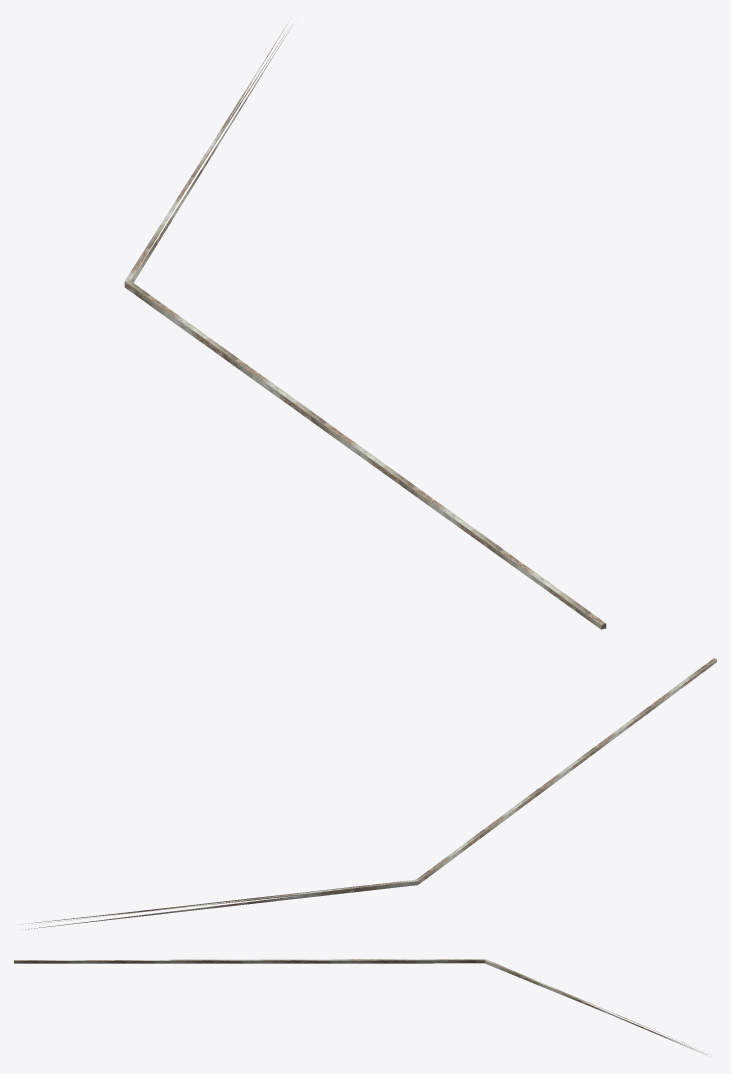
The picture shows the model from 3 angles, top to bottom: view 1: azimuth 30°, elevation 25°; view 2: azimuth 150°, elevation 25°; view 3: azimuth 270°, elevation 25°; orthographic projection. The views are drawn at different scales.
Visible parts, largest first — view 1: Object84; view 2: Object84; view 3: Object84.
Part boxes in pixels (bbox=[...]): Object84: bbox=[124, 24, 606, 629]; Object84: bbox=[19, 658, 716, 929]; Object84: bbox=[14, 959, 706, 1055].
Bounding box in the file's own units: 140 × 2.37 × 422.
